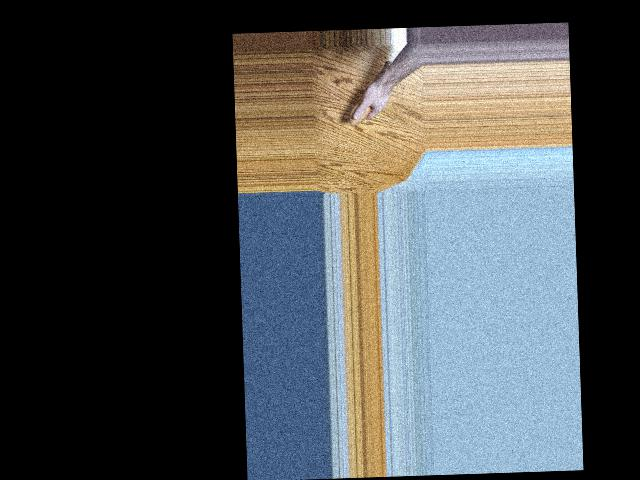sweet_potato: (346, 61, 392, 126)
